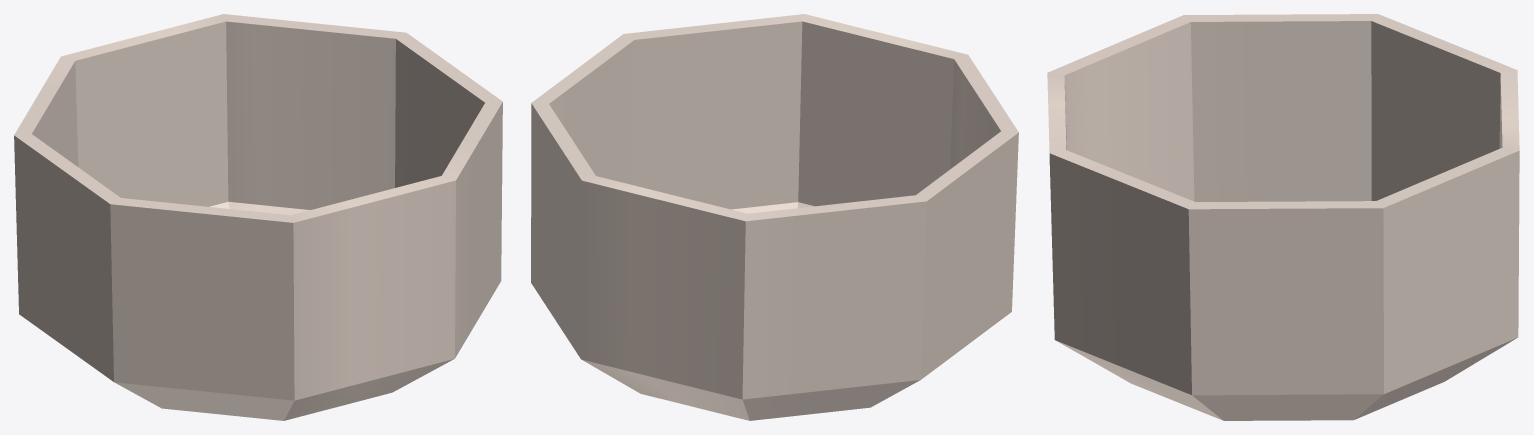
File: Living_Room_bowls1.fbx
3 views of the same model, side by side, from view 1: azimuth 30°, elevation 25°; view 2: azimuth 150°, elevation 25°; view 3: azimuth 270°, elevation 25° (orthographic). The views are drawn at different scales.
Visible parts, largest first — view 1: Living_Room_bowls1; view 2: Living_Room_bowls1; view 3: Living_Room_bowls1.
Part boxes in pixels (bbox=[...]): Living_Room_bowls1: bbox=[14, 14, 502, 420]; Living_Room_bowls1: bbox=[531, 14, 1018, 420]; Living_Room_bowls1: bbox=[1047, 14, 1519, 420].
Size of the model in its own units: 12.61 by 7.25 by 12.61.
